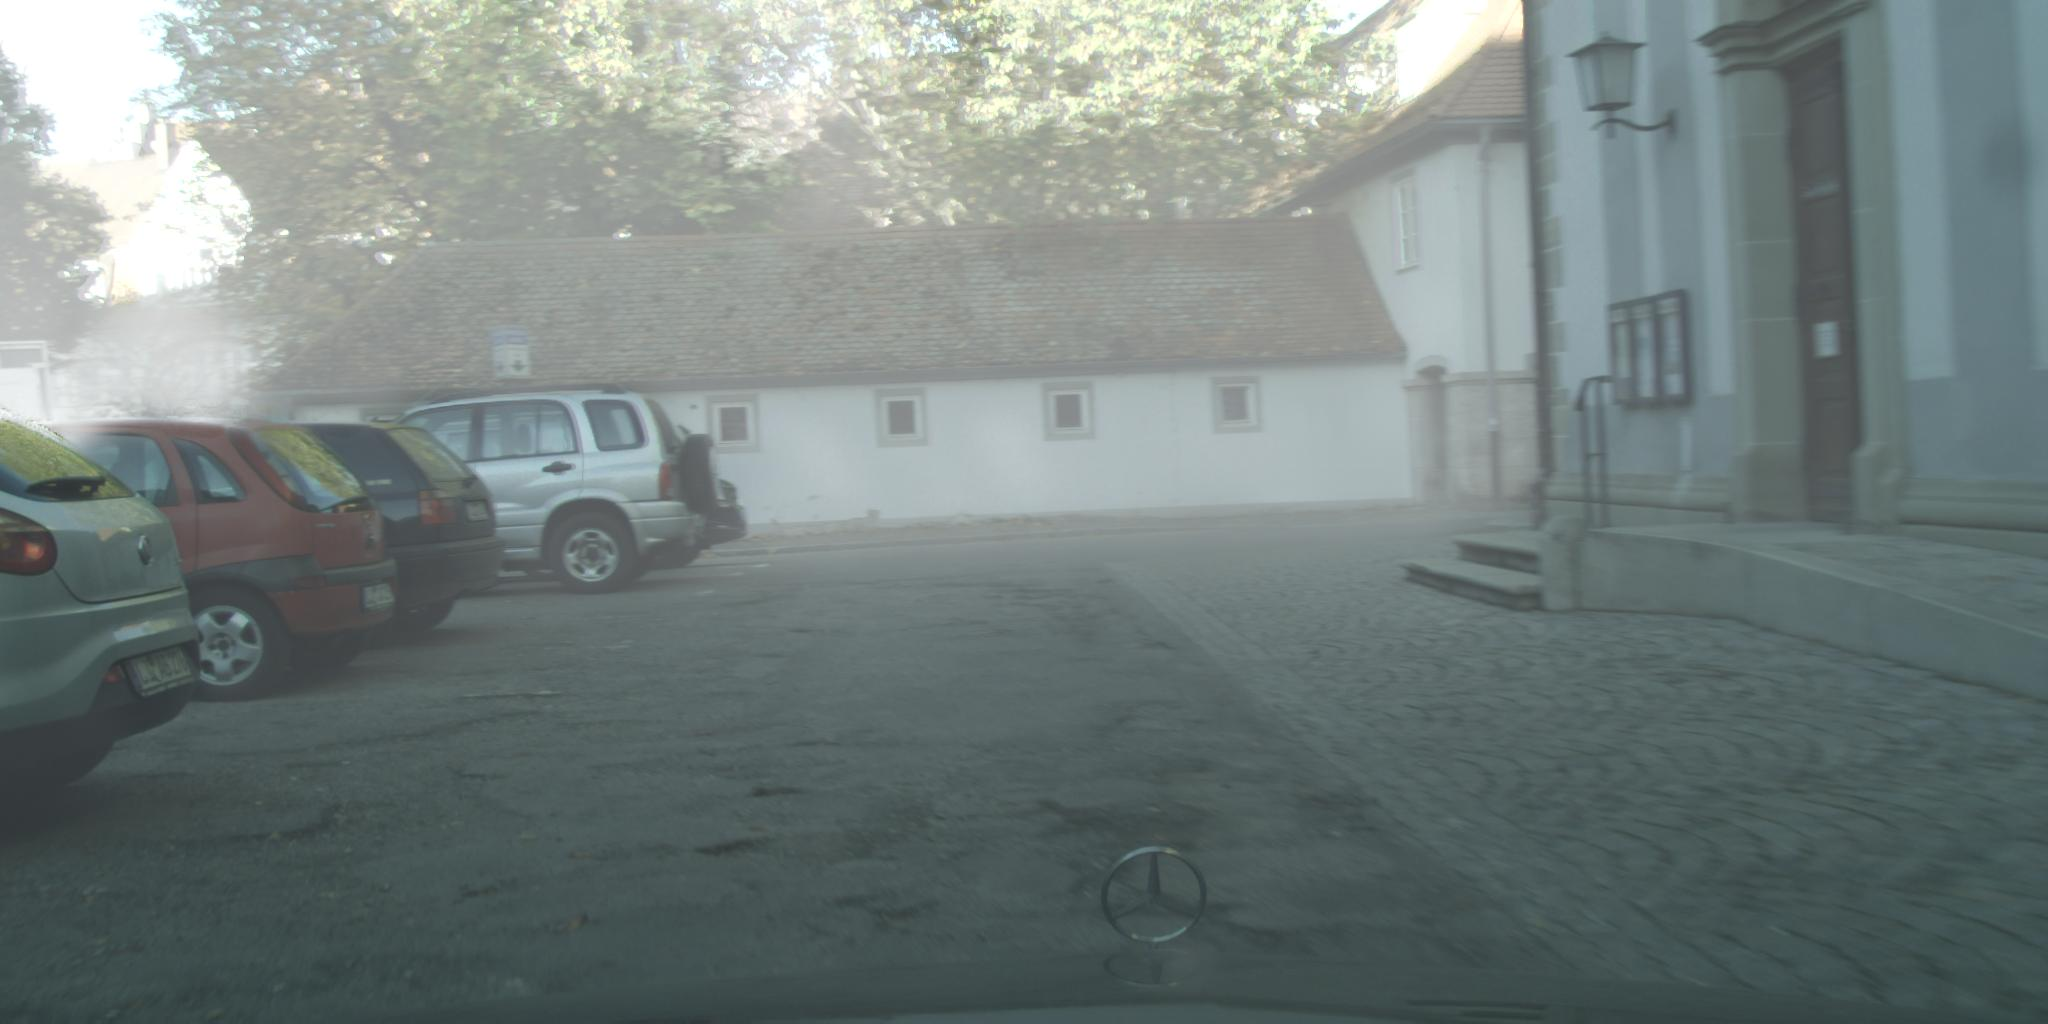car: (30, 418, 398, 705), (1, 408, 204, 808), (389, 381, 722, 597), (282, 422, 507, 630), (649, 477, 748, 572)
